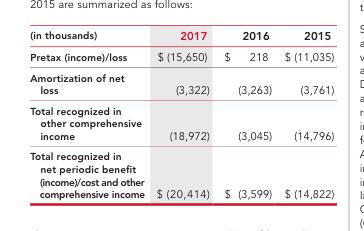table: (29, 28, 333, 200)
table column: (29, 28, 149, 200), (149, 28, 216, 200), (216, 28, 277, 200), (277, 28, 333, 200)
table column header: (29, 28, 333, 46)
table row: (29, 145, 333, 200), (29, 100, 333, 145), (29, 67, 333, 100), (29, 46, 333, 67), (29, 28, 333, 46)
